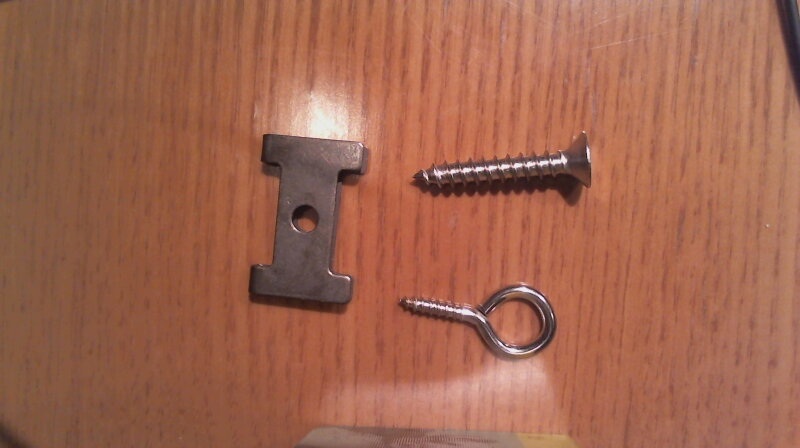O001: (390, 276, 558, 364)
O002: (242, 128, 363, 310)
S001: (407, 127, 596, 197)
